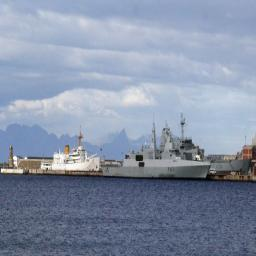Fragata: (100, 110, 213, 184)
